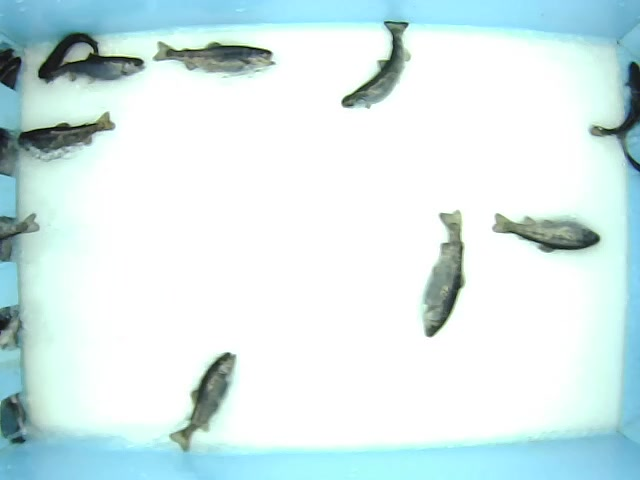fish: (169, 350, 238, 454), (339, 19, 414, 112), (419, 210, 469, 338), (152, 40, 277, 80), (17, 112, 117, 161), (489, 212, 601, 254), (37, 31, 101, 80), (45, 52, 146, 83)
